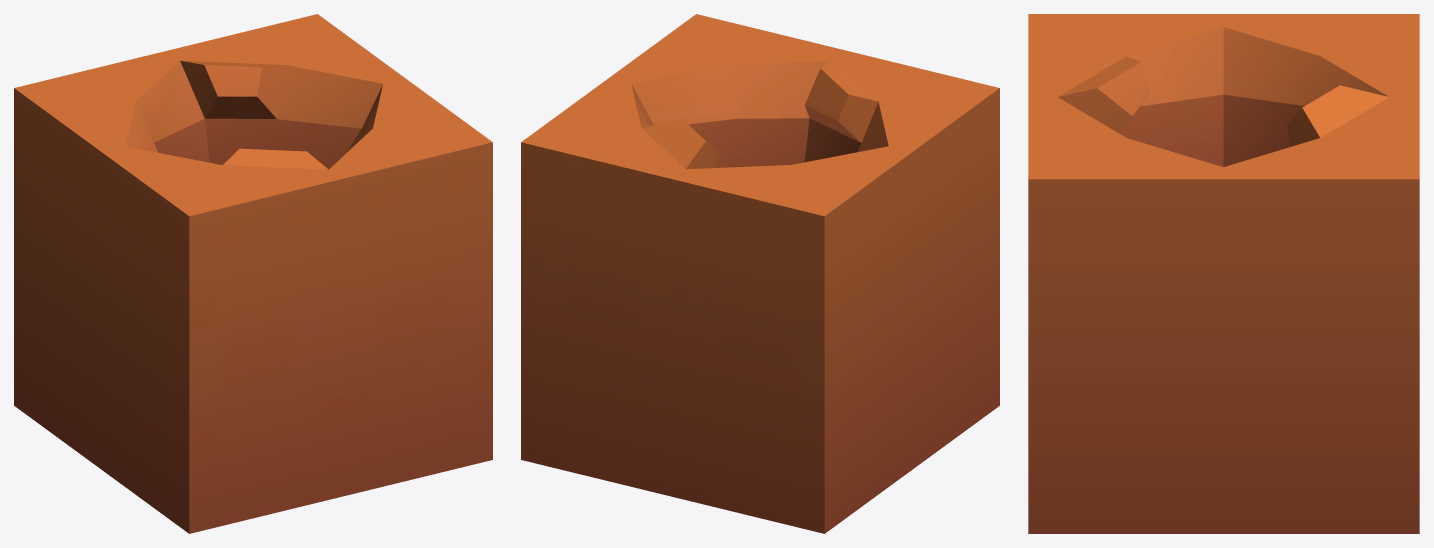
File: terrain_mining.glb
The picture shows the model from 3 angles, left to right: view 1: azimuth 30°, elevation 25°; view 2: azimuth 150°, elevation 25°; view 3: azimuth 270°, elevation 25°; orthographic projection. The views are drawn at different scales.
Parts seen in each view (by area): view 1: terrain_mining_Cube.15121; view 2: terrain_mining_Cube.15121; view 3: terrain_mining_Cube.15121.
Part boxes in pixels (<box>): terrain_mining_Cube.15121: <box>14,14,492,533</box>; terrain_mining_Cube.15121: <box>521,14,999,533</box>; terrain_mining_Cube.15121: <box>1028,14,1419,533</box>.
Size of the model in its own units: 2 by 2.07 by 2.
1 material, 1 textured.
